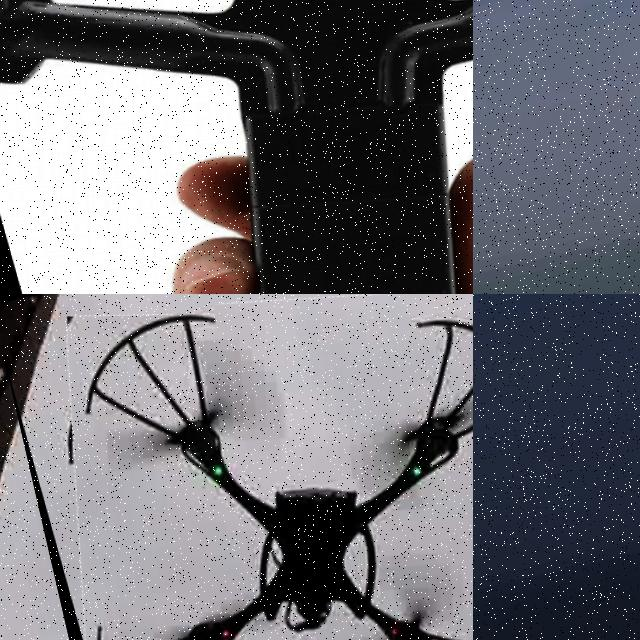0: (3, 294, 473, 640)
drone: (0, 0, 473, 294)
